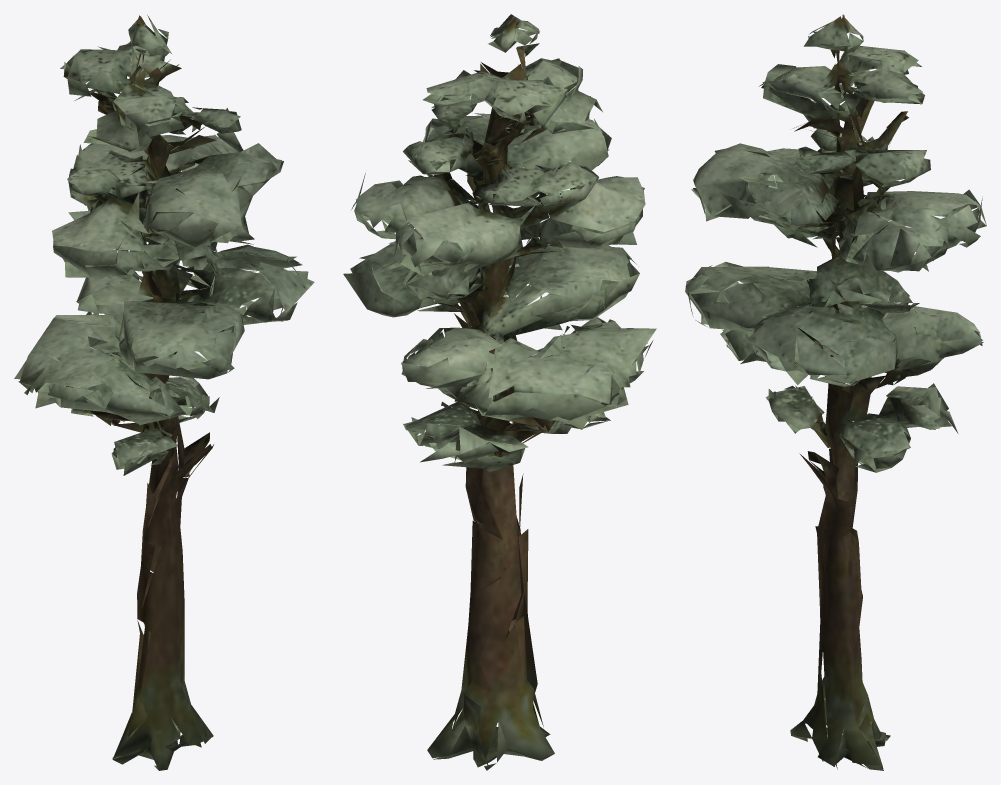
The model's file is tree_tall_a_meshy_l50.glb.
The picture shows the model from 3 angles, left to right: view 1: azimuth 30°, elevation 25°; view 2: azimuth 150°, elevation 25°; view 3: azimuth 270°, elevation 25°; orthographic projection. The views are drawn at different scales.
Visible parts, largest first — view 1: tree_tall_a_meshy_lod0; view 2: tree_tall_a_meshy_lod0; view 3: tree_tall_a_meshy_lod0.
Part boxes in pixels (x1=…): tree_tall_a_meshy_lod0: x1=14, y1=15, x2=314, y2=770; tree_tall_a_meshy_lod0: x1=343, y1=14, x2=656, y2=770; tree_tall_a_meshy_lod0: x1=685, y1=14, x2=986, y2=770.
Bounding box in the file's own units: 2.03 × 5.14 × 1.93.
Materials: 1 (1 with a texture image).
